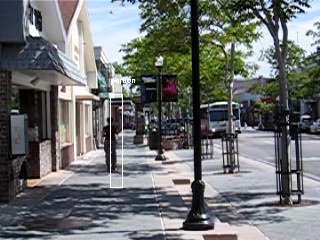person: (103, 117, 122, 174), (102, 117, 121, 174), (104, 117, 123, 174), (103, 116, 122, 173), (103, 118, 122, 175)
target_negative: (163, 150, 264, 237), (227, 20, 278, 124), (240, 165, 304, 230), (168, 211, 302, 224), (198, 176, 225, 227), (71, 217, 111, 235)
